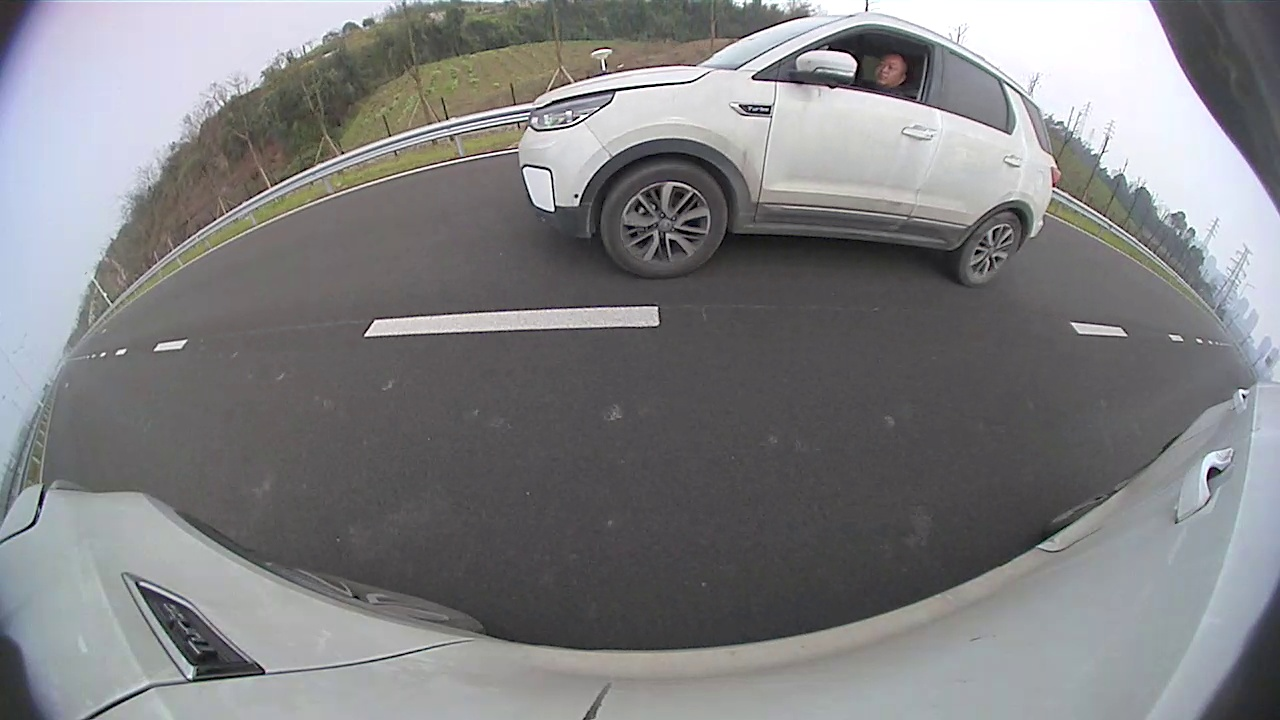car: (519, 15, 1060, 289)
front: (595, 154, 729, 285)
rear: (949, 206, 1026, 290)
